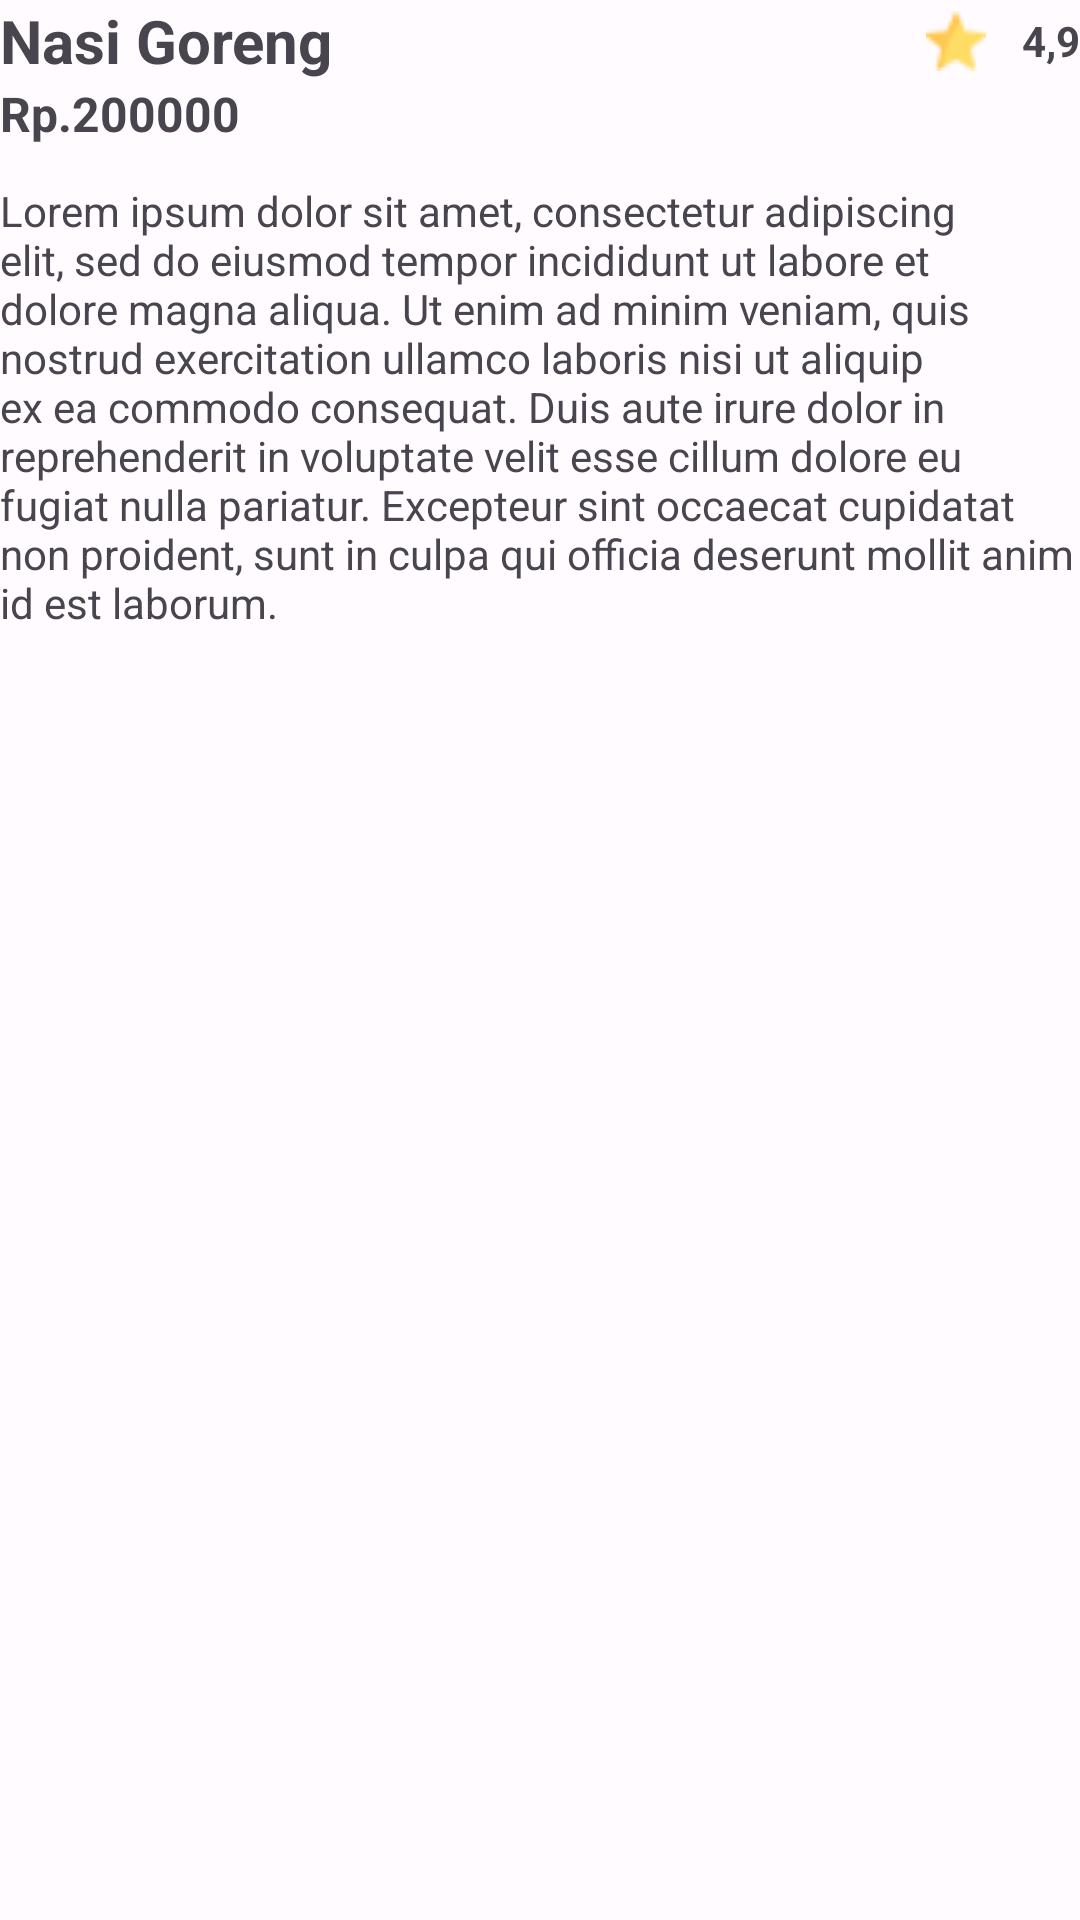

Locate icon controls on the screen. Image size 1080*1920, boxes as region(x1, y1, x2, y2).
star: region(926, 11, 986, 71)
